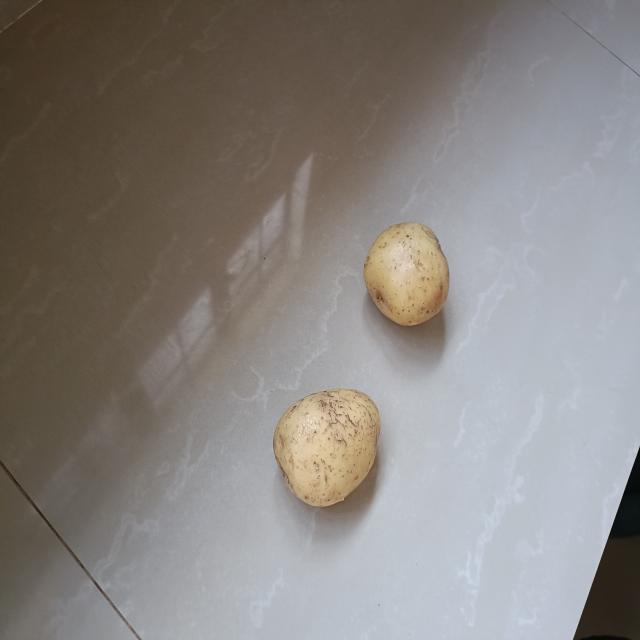potato: (272, 385, 384, 518), (360, 221, 454, 334)
